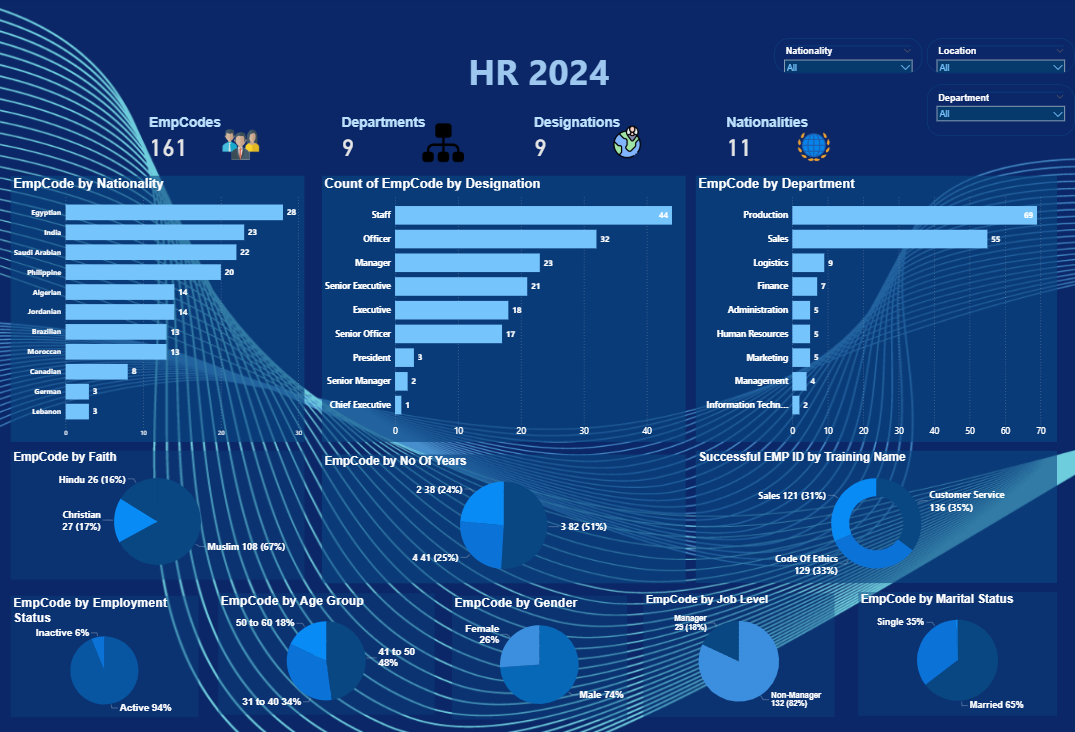

The dashboard page shown, as its layout file describes it:
{"tool":"powerbi","page":{"name":"Page 1","canvas":[2200,1500],"ordinal":0},"visuals":[{"type":"cardVisual","fields":{"Data":["Workers.EmpCode","Workers.Department","Workers.Designation","Workers.Nationality"]},"box":[292.9,224.1,1571.3,114.6],"z":0},{"type":"clusteredBarChart","fields":{"Y":["Workers.EmpCode"],"Category":["Workers.Department"]},"box":[1423.6,364.2,736,542.4],"z":1000},{"type":"pieChart","fields":{"Y":["Workers.EmpCode"],"Category":["Workers.Gender"]},"box":[927,1219.9,356.5,252.1],"z":2000},{"type":"pieChart","fields":{"Y":["Workers.EmpCode"],"Category":["Workers.Job Level"]},"box":[1316.6,1214.8,389.6,252.1],"z":3000},{"type":"barChart","fields":{"Y":["Workers.EmpCode"],"Category":["Workers.Nationality"]},"box":[28,364.2,598.5,542.4],"z":4000},{"type":"pieChart","fields":{"Y":["Workers.EmpCode"],"Category":["Workers.Age Group"]},"box":[450.8,1214.8,440.6,247],"z":5000},{"type":"pieChart","fields":{"Category":["Workers.Employment Status"],"Y":["Workers.EmpCode"]},"box":[28,1219.9,382,247],"z":6000},{"type":"pieChart","fields":{"Y":["Workers.EmpCode"],"Category":["Workers.Faith"]},"box":[28,924.4,598.5,262.3],"z":7000},{"type":"pieChart","fields":{"Category":["Workers.Marital Status"],"Y":["Workers.EmpCode"]},"box":[1754.7,1212.2,404.9,252.1],"z":8000},{"type":"donutChart","fields":{"Y":["Training1.EMP ID"],"Category":["Training1.Training Name"]},"box":[1423.6,924.4,736,269.9],"z":9000},{"type":"slicer","fields":{"Values":["Workers.Location"]},"box":[1894.7,84,300.5,71.3],"z":10000},{"type":"textbox","box":[891.3,96.8,425.3,127.3],"z":11000},{"type":"slicer","fields":{"Values":["Workers.Nationality"]},"box":[1584,84,300.5,71.3],"z":12000},{"type":"card","fields":{"Values":["Budjet.Now"]},"box":[0,58.6,476.2,61.1],"z":13000},{"type":"pieChart","fields":{"Y":["Workers.EmpCode"],"Category":["Workers.No Of Years"]},"box":[662.1,932.1,741.1,262.3],"z":14000},{"type":"barChart","fields":{"Y":["Workers.EmpCode"],"Category":["Workers.Designation"]},"box":[662.1,364.2,741.1,542.4],"z":15000},{"type":"image","box":[1225,257.2,117.1,76.4],"z":16000},{"type":"image","box":[415.1,257.2,163,86.6],"z":17000},{"type":"image","box":[1594.2,267.4,140.1,76.4],"z":18000},{"type":"image","box":[822.6,249.6,173.2,94.2],"z":19000},{"type":"slicer","fields":{"Values":["Workers.Department"]},"box":[1894.7,178.3,300.5,104.4],"z":20000}]}

Visuals, with their boxes in screenshot pixels (x1, y1, x2, y2), scaled from the page's 2200x1500 canvas onto the 1075x732 screenshot:
cardVisual - Workers.EmpCode x Workers.Department: pyautogui.locateOnScreen(143, 109, 911, 165)
clusteredBarChart - Workers.EmpCode x Workers.Department: pyautogui.locateOnScreen(696, 178, 1055, 442)
pieChart - Workers.EmpCode x Workers.Gender: pyautogui.locateOnScreen(453, 595, 627, 718)
pieChart - Workers.EmpCode x Workers.Job Level: pyautogui.locateOnScreen(643, 593, 834, 716)
barChart - Workers.EmpCode x Workers.Nationality: pyautogui.locateOnScreen(14, 178, 306, 442)
pieChart - Workers.EmpCode x Workers.Age Group: pyautogui.locateOnScreen(220, 593, 436, 713)
pieChart - Workers.Employment Status x Workers.EmpCode: pyautogui.locateOnScreen(14, 595, 200, 716)
pieChart - Workers.EmpCode x Workers.Faith: pyautogui.locateOnScreen(14, 451, 306, 579)
pieChart - Workers.Marital Status x Workers.EmpCode: pyautogui.locateOnScreen(857, 592, 1055, 715)
donutChart - Training1.EMP ID x Training1.Training Name: pyautogui.locateOnScreen(696, 451, 1055, 583)
slicer - Workers.Location: pyautogui.locateOnScreen(926, 41, 1073, 76)
textbox: pyautogui.locateOnScreen(436, 47, 643, 109)
slicer - Workers.Nationality: pyautogui.locateOnScreen(774, 41, 921, 76)
card - Budjet.Now: pyautogui.locateOnScreen(0, 29, 233, 58)
pieChart - Workers.EmpCode x Workers.No Of Years: pyautogui.locateOnScreen(324, 455, 686, 583)
barChart - Workers.EmpCode x Workers.Designation: pyautogui.locateOnScreen(324, 178, 686, 442)
image: pyautogui.locateOnScreen(599, 126, 656, 163)
image: pyautogui.locateOnScreen(203, 126, 282, 168)
image: pyautogui.locateOnScreen(779, 130, 847, 168)
image: pyautogui.locateOnScreen(402, 122, 487, 168)
slicer - Workers.Department: pyautogui.locateOnScreen(926, 87, 1073, 138)
